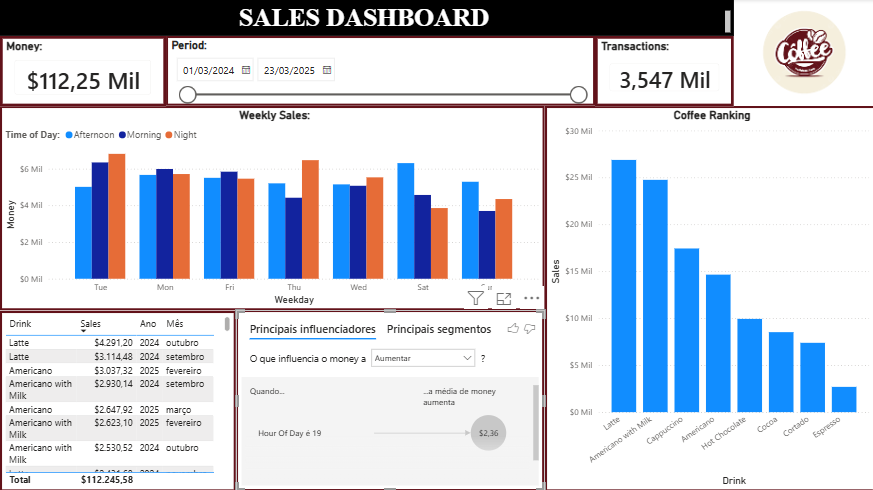

This screenshot's page, from the dashboard's own definition file:
{"tool":"powerbi","page":{"name":"Dashboard","canvas":[1280,720],"ordinal":0},"visuals":[{"type":"image","box":[1074.4,0,205.8,156.4],"z":0},{"type":"slicer","title":"Period:","fields":{"Values":["Coffe_sales.Date"]},"box":[242.9,54.1,627.8,102.4],"z":1000},{"type":"tableEx","fields":{"Values":["Coffe_sales.coffee_name","Sum(Coffe_sales.money)","Coffe_sales.Date.Variation.Hierarquia de datas.Ano","Coffe_sales.Date.Variation.Hierarquia de datas.Mês"]},"box":[0,456.2,345.3,263.6],"z":2000},{"type":"lineClusteredColumnComboChart","title":"Weekly Sales:","fields":{"Category":["Coffe_sales.Weekday"],"Y":["Sum(Coffe_sales.money)"],"Series":["Coffe_sales.Time_of_Day"]},"box":[0,156.4,797.3,299.1],"z":3000},{"type":"columnChart","title":"Coffee Ranking","fields":{"Category":["Coffe_sales.coffee_name"],"Y":["Sum(Coffe_sales.money)"]},"box":[797.3,156.4,483,564],"z":4000},{"type":"keyDriversVisual","fields":{"Target":["Coffe_sales.money"],"ExplainBy":["Coffe_sales.hour_of_day"]},"box":[345.8,455.6,451.5,264.8],"z":5000},{"type":"cardVisual","title":"Transactions:","fields":{"Data":["CountNonNull(Coffe_sales.cash_type)"]},"box":[871.4,53.5,203.1,102.9],"z":6000},{"type":"cardVisual","title":"Money:","fields":{"Data":["Sum(Coffe_sales.money)"]},"box":[0,53.5,242.9,102.9],"z":7000},{"type":"textbox","box":[0,0,1074.4,53.5],"z":8000}]}

Visuals, with their boxes in screenshot pixels (x1, y1, x2, y2), scaled from the page's 1280x720 canvas onto the 873x490 screenshot:
image: <bbox>733, 0, 872, 106</bbox>
"Period:" slicer: <bbox>166, 37, 594, 107</bbox>
tableEx - Coffe_sales.coffee_name x Sum(Coffe_sales.money): <bbox>0, 310, 236, 489</bbox>
"Weekly Sales:" lineClusteredColumnComboChart: <bbox>0, 106, 544, 310</bbox>
"Coffee Ranking" columnChart: <bbox>544, 106, 872, 489</bbox>
keyDriversVisual - Coffe_sales.money x Coffe_sales.hour_of_day: <bbox>236, 310, 544, 489</bbox>
"Transactions:" cardVisual: <bbox>594, 36, 733, 106</bbox>
"Money:" cardVisual: <bbox>0, 36, 166, 106</bbox>
textbox: <bbox>0, 0, 733, 36</bbox>
